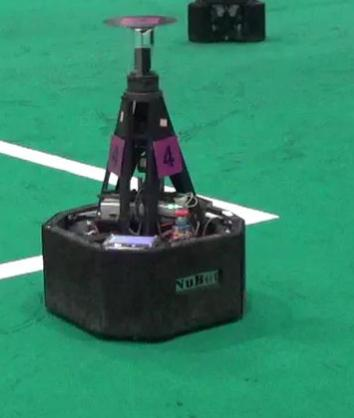robot: (35, 14, 251, 344)
